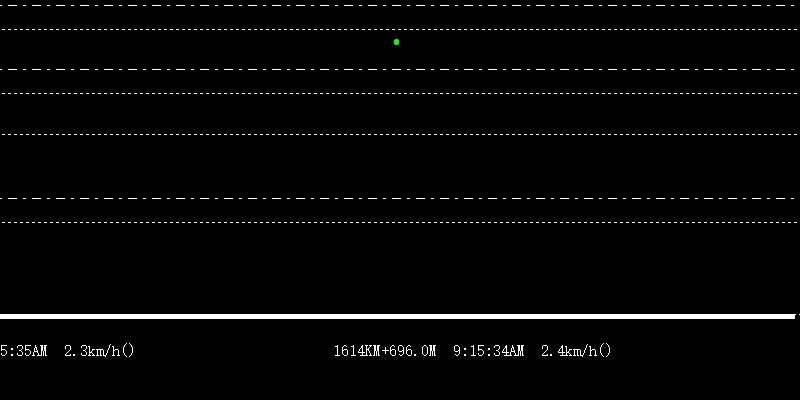face_down: (390, 24, 404, 46)
